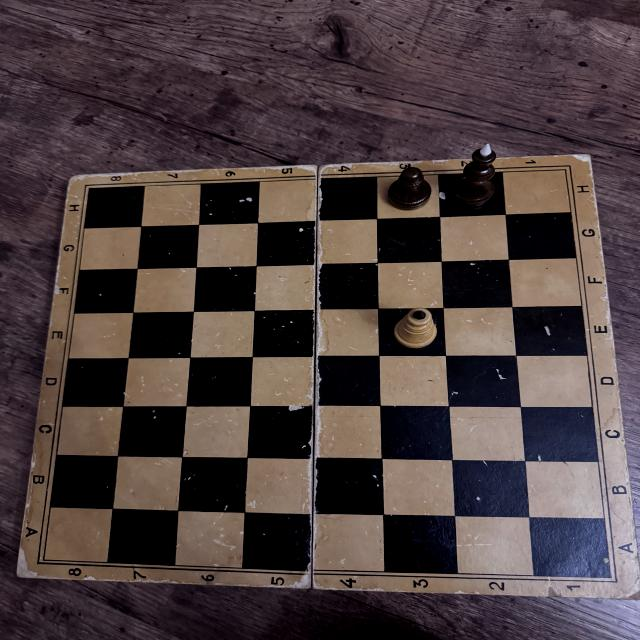black-king: (446, 142, 503, 208)
black-pawn: (383, 165, 434, 210)
white-king: (393, 308, 438, 350)
